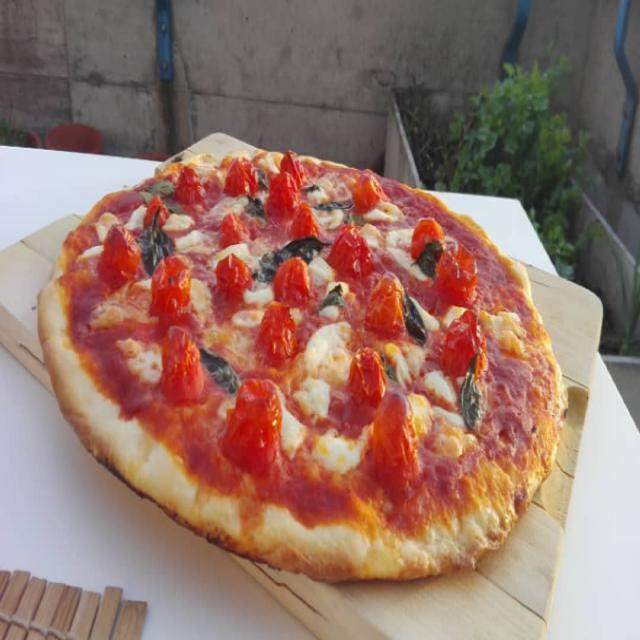basil: (244, 229, 332, 285), (130, 204, 178, 278), (195, 341, 247, 401), (455, 354, 488, 437), (312, 272, 350, 318), (409, 235, 443, 281), (149, 175, 184, 217), (376, 344, 402, 392), (312, 191, 356, 219), (240, 188, 268, 226), (249, 160, 271, 196), (300, 178, 320, 195)
pizza: (35, 150, 569, 588)
tomatoes: (223, 372, 290, 468), (154, 320, 212, 414), (370, 385, 422, 482), (94, 216, 146, 287), (438, 305, 486, 381), (361, 267, 407, 345), (254, 296, 300, 372), (435, 238, 482, 310), (148, 249, 192, 323), (346, 338, 387, 408), (268, 255, 320, 310), (328, 220, 373, 283), (214, 249, 252, 305), (263, 165, 301, 221), (343, 170, 386, 217), (174, 159, 207, 213), (406, 214, 448, 255), (288, 196, 321, 243), (222, 158, 260, 198), (216, 206, 252, 248), (276, 152, 308, 189), (143, 192, 170, 230)
